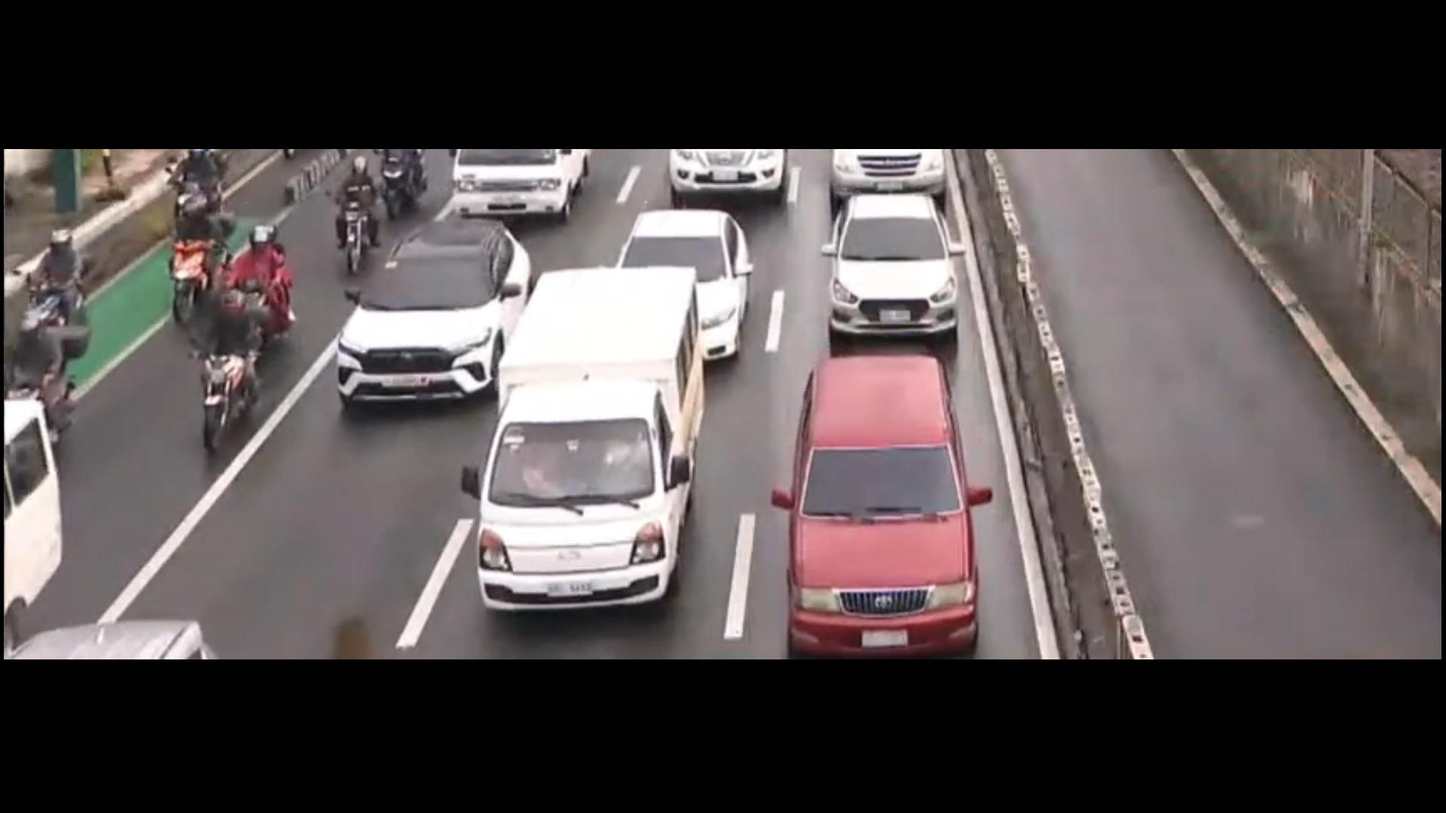Motorcycle: (176, 305, 292, 459), (0, 247, 106, 398), (4, 301, 89, 445), (222, 232, 311, 333), (164, 200, 224, 336), (329, 151, 377, 284), (168, 142, 241, 224), (361, 145, 433, 226)
Multicab: (459, 248, 719, 633), (0, 377, 64, 653), (456, 143, 586, 223)
SUV: (763, 337, 1006, 668), (325, 204, 543, 419)
Sedan: (799, 181, 993, 366), (593, 202, 769, 354)
